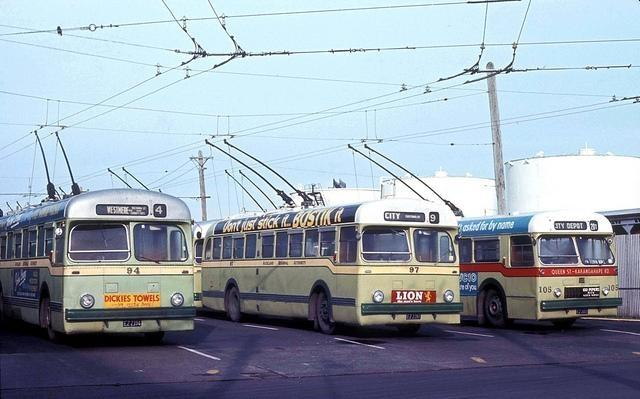bus: (199, 198, 462, 337), (1, 188, 195, 348), (456, 210, 620, 331)
